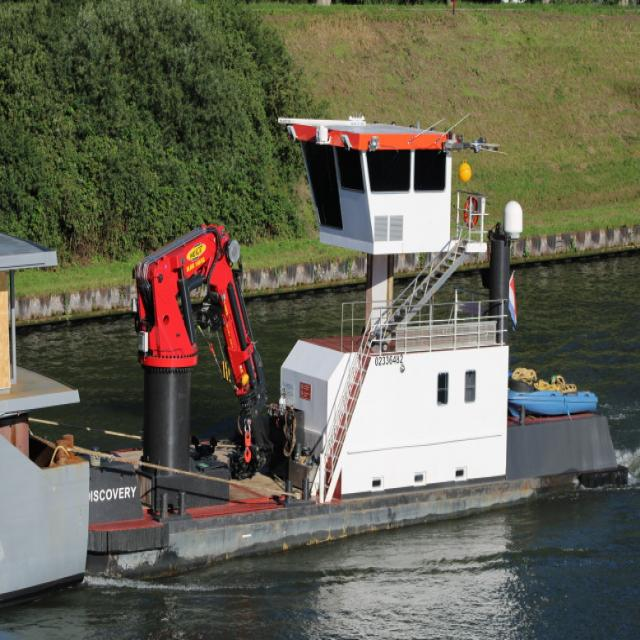tugboat: (64, 105, 634, 595)
